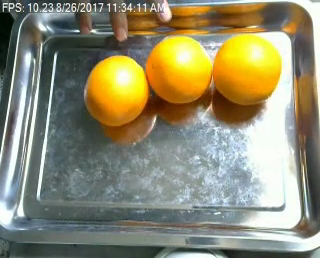Orange: (213, 31, 283, 105), (82, 54, 149, 126), (146, 34, 212, 103)
